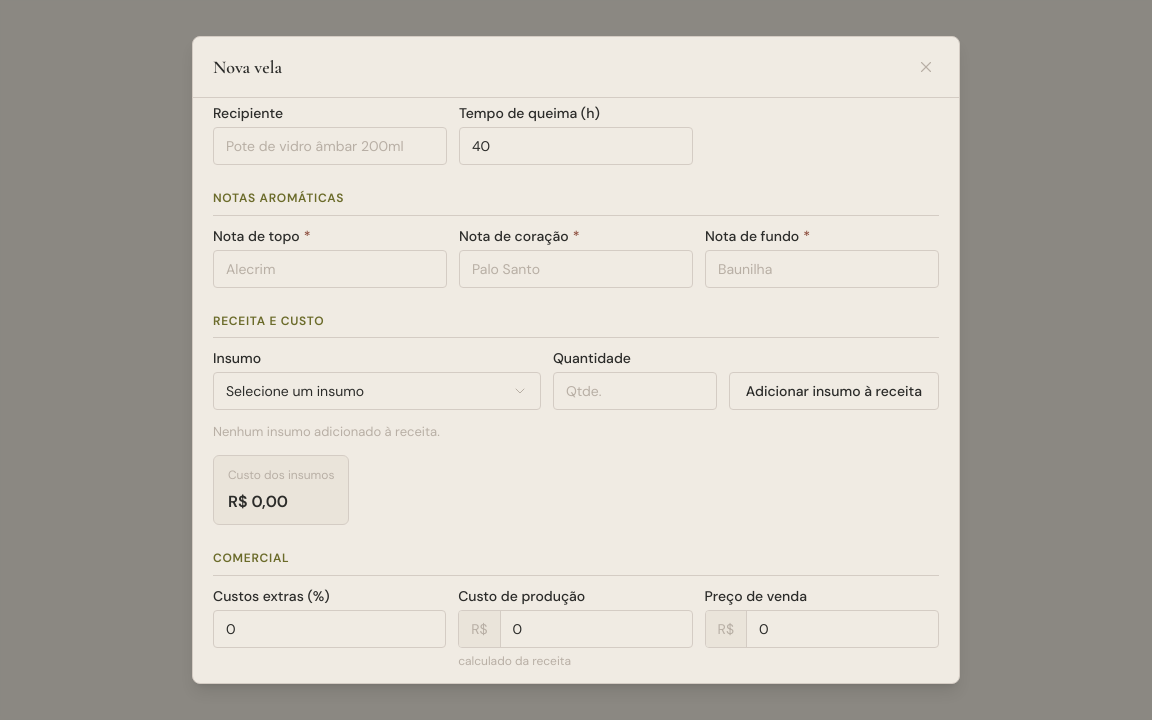
Test case: ModalNovoProduto — Receita e custo › caso válido: editar o custo à mão preserva o override ao mudar a receita, e "Recalcular da receita" volta ao valor calculado
The image size is (1152, 720).
(page scrolled)
Select "Cera de soja (g)" in the dropdown labelled "Insumo" at coordinates (377, 391), box [213,372,541,410]
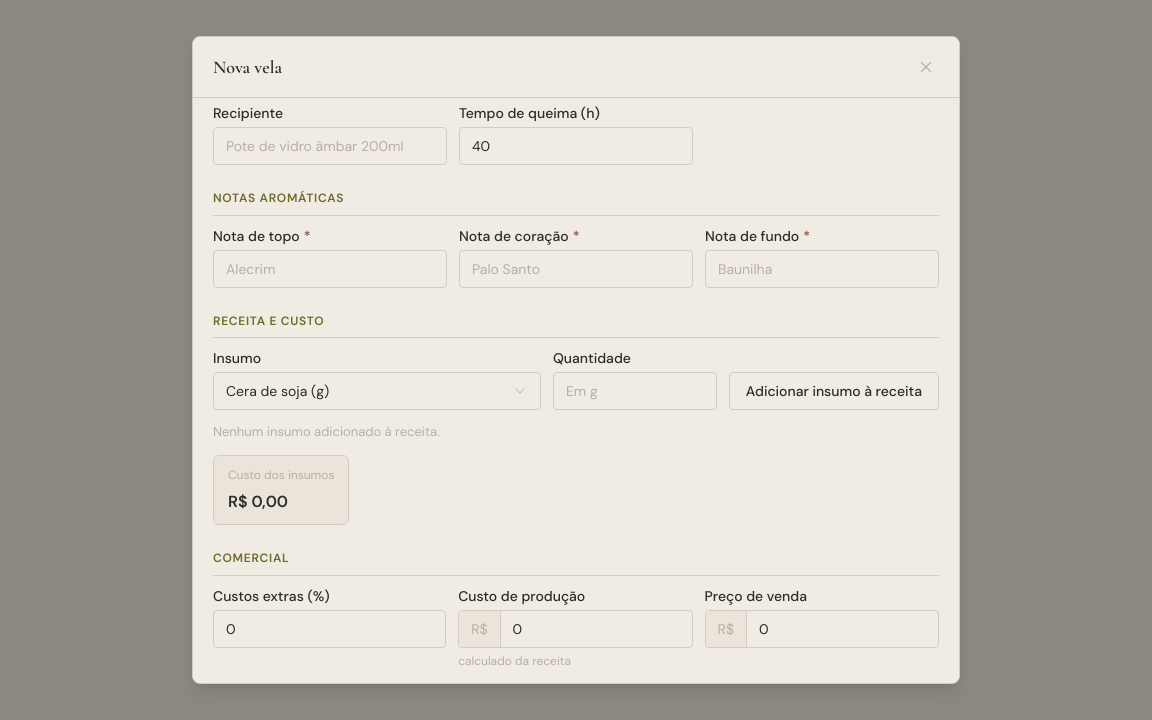
Type "50" into the number field labelled "Quantidade" at coordinates (635, 391), box [553,372,717,410]
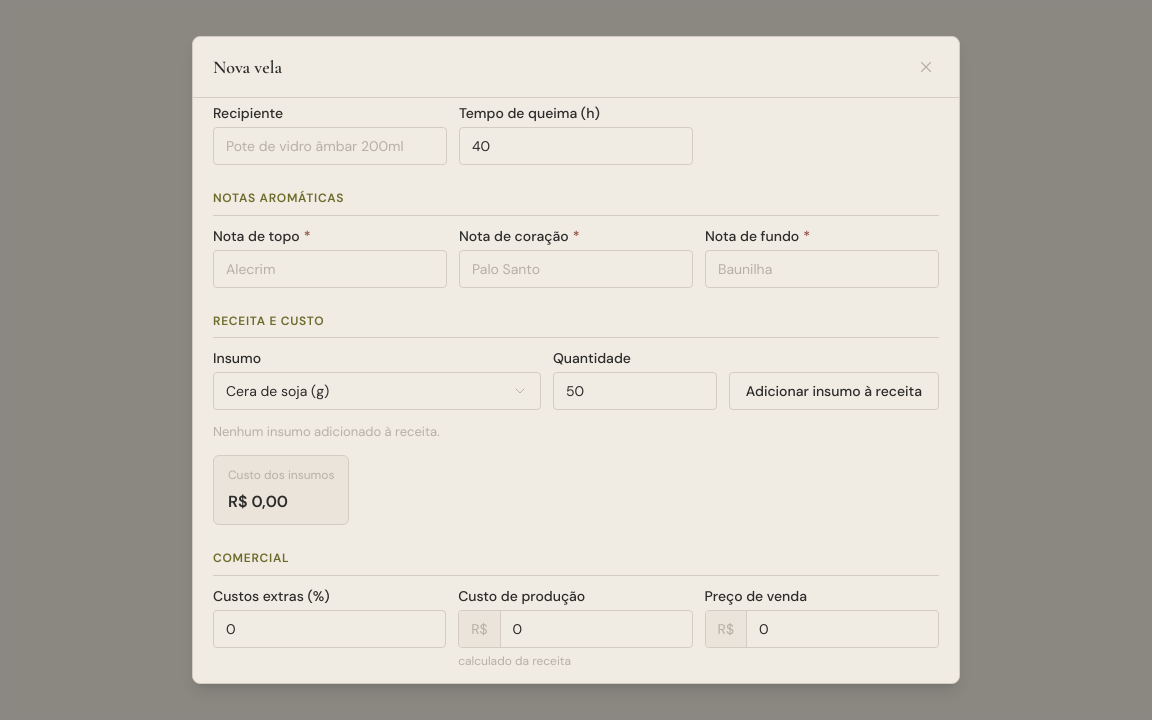
Click the button "Adicionar insumo à receita" at coordinates (834, 391), box [729,372,939,410]
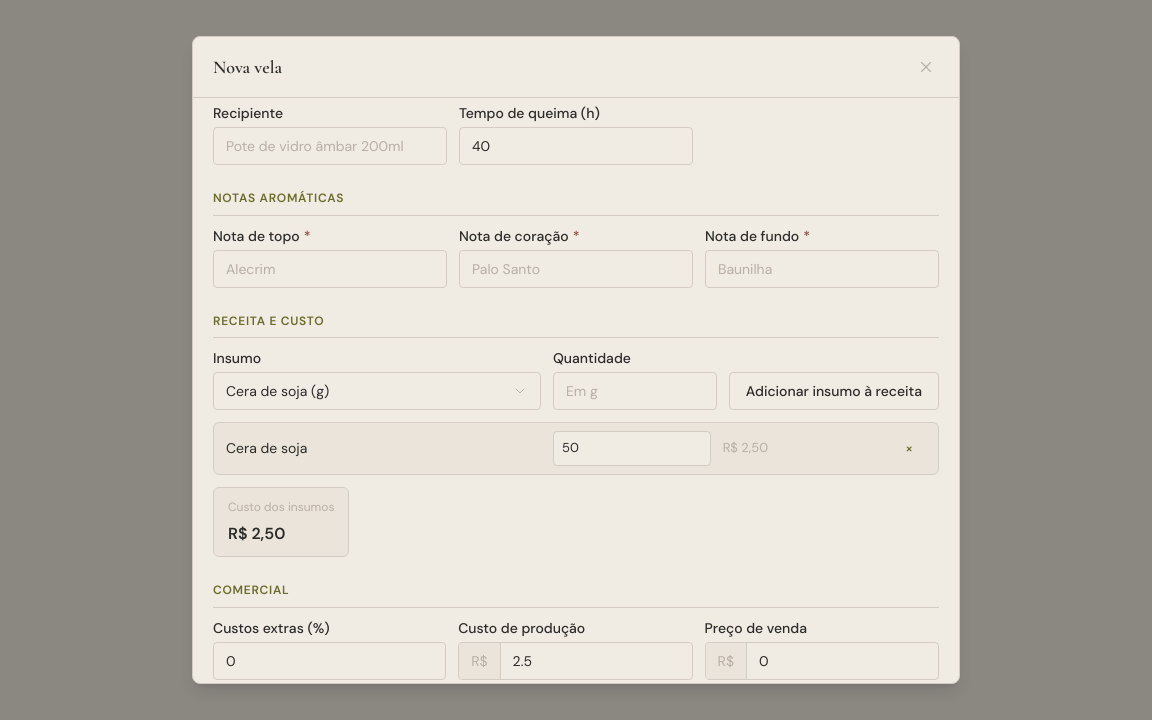
Replace the text in the number field labelled "Custo de produção" with "12" at coordinates (596, 660), box [501,642,692,678]
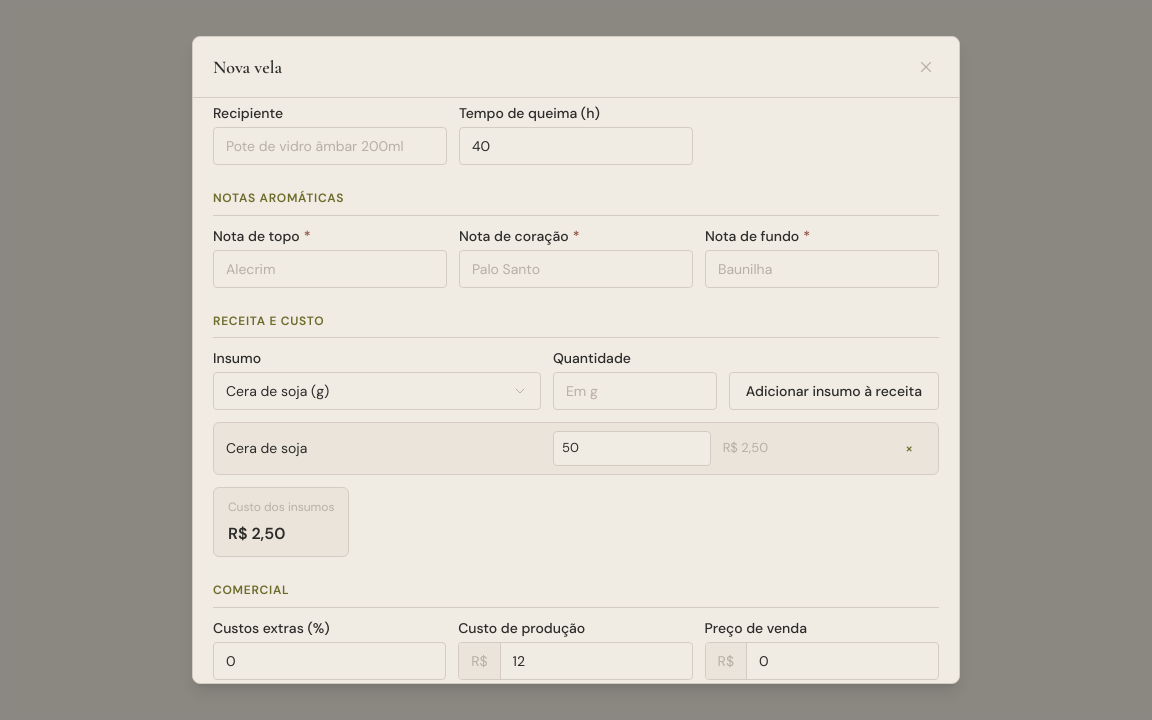
Replace the text in the number field named "quantidade de cera de soja na receita" with "100" at coordinates (632, 448), box [553,431,711,466]
(page scrolled)
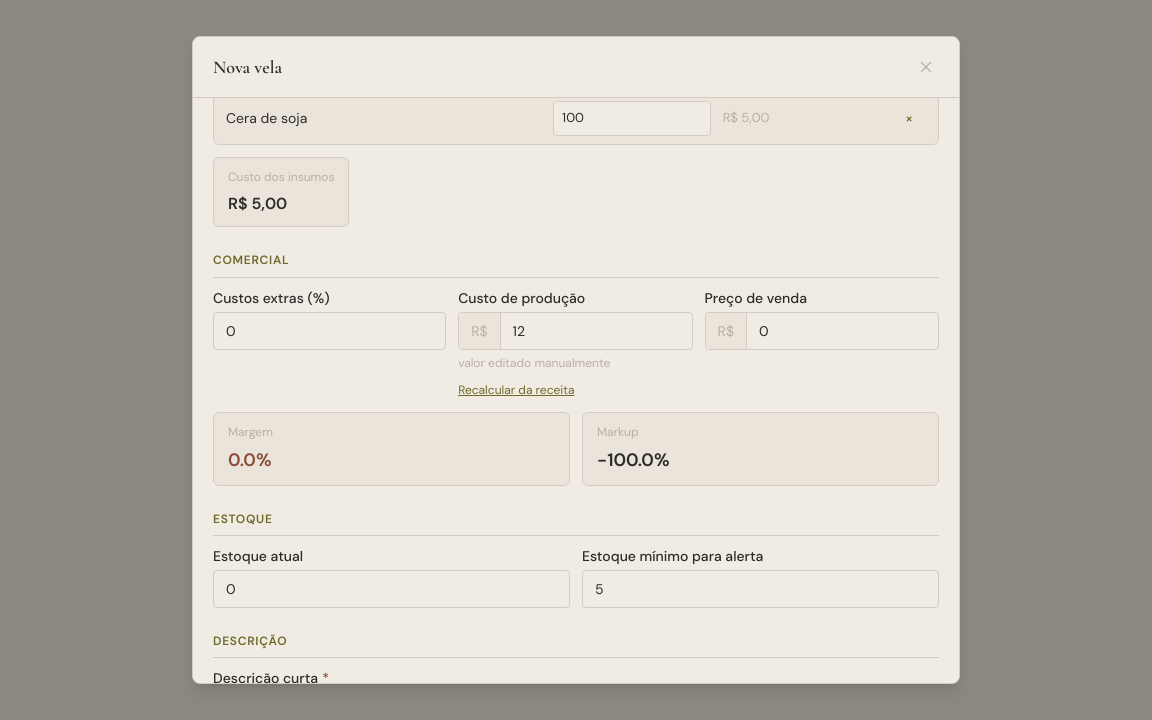
Now the text "valor editado manualmente" is shown, box [458,354,610,373]
Click the button "Recalcular da receita" at coordinates (516, 390), box [458,381,574,400]
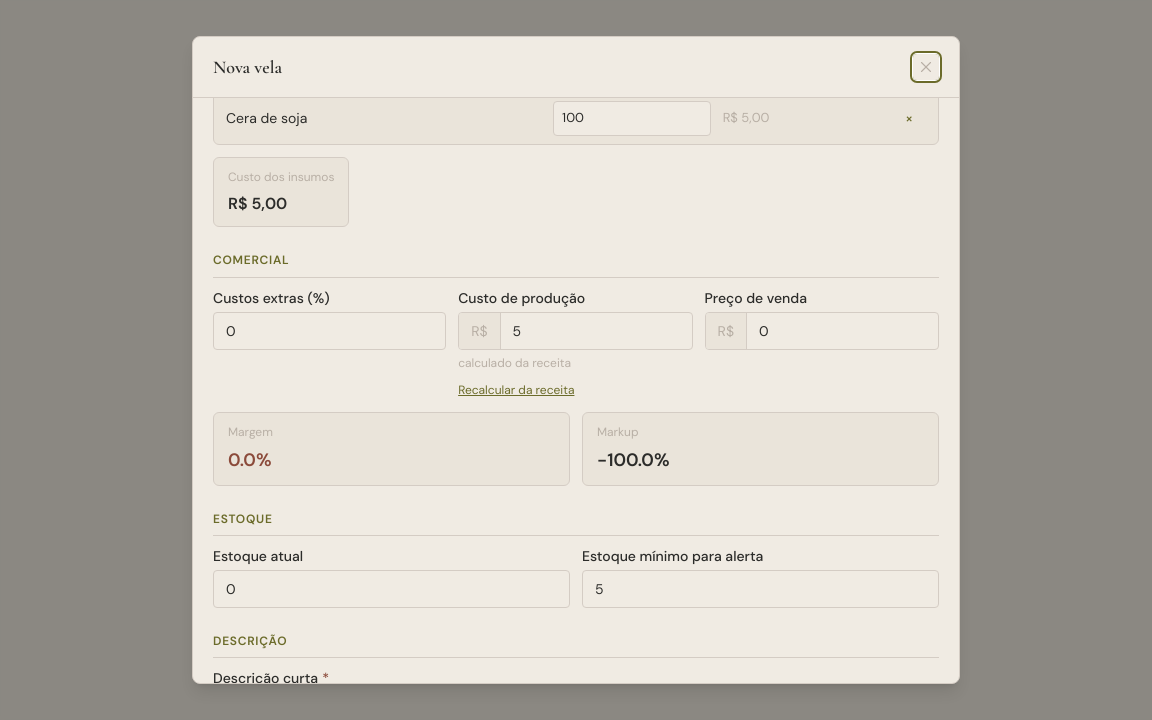
Now the text "calculado da receita" is shown, box [458,354,571,373]
